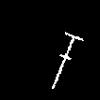double_crochet: (52, 32, 82, 88)
